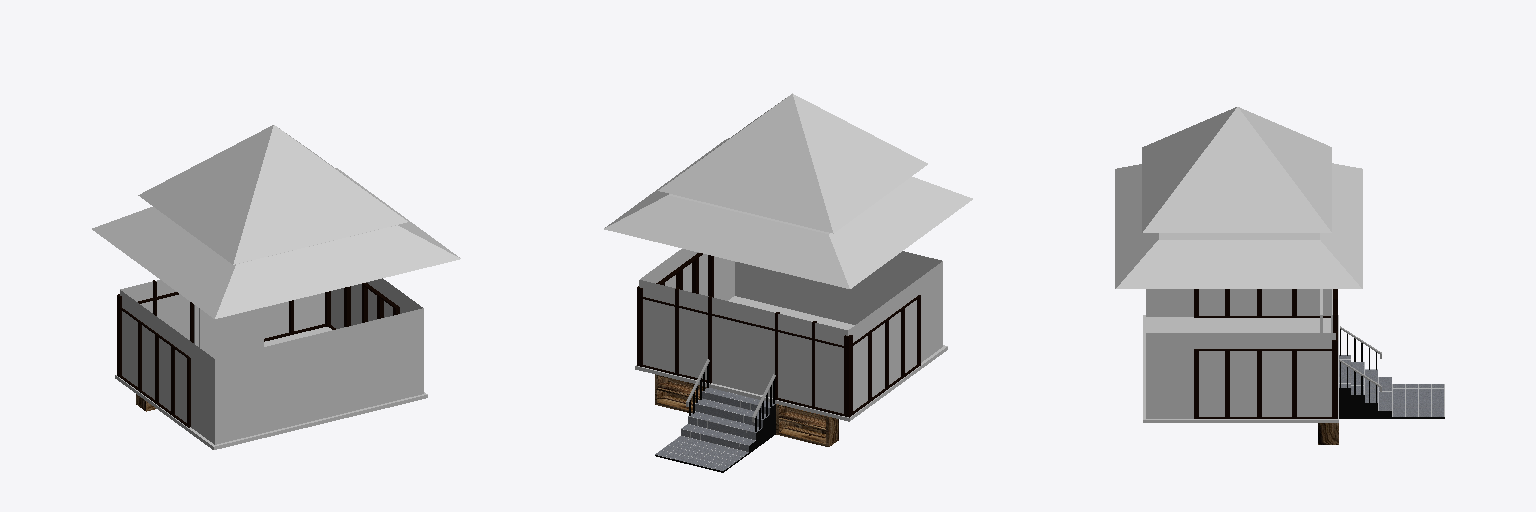
3 renders of one model, left to right at view 1: azimuth 30°, elevation 25°; view 2: azimuth 150°, elevation 25°; view 3: azimuth 270°, elevation 25°, orthographic.
Parts seen in each view (by area): view 1: Cube.001_Cube.022, Cube.020_Cube.014, Cube.019_Cube.010, Cube.042_Cube.035, Cube.018_Cube.002; view 2: Cube.001_Cube.022, Cube.020_Cube.014, Cube.019_Cube.010, Cube.012_Cube, Cube.018_Cube.002, Cube.016_Cube.011, Cube.017_Cube.013, Cube.023_Cube.032; view 3: Cube.020_Cube.014, Cube.001_Cube.022, Cube.019_Cube.010, Cube.012_Cube, Cube.018_Cube.002.
Part boxes in pixels (left/top/right/bottom): Cube.001_Cube.022: left=120, top=278, right=423, bottom=444; Cube.020_Cube.014: left=138, top=125, right=407, bottom=264; Cube.019_Cube.010: left=92, top=168, right=460, bottom=318; Cube.042_Cube.035: left=199, top=307, right=263, bottom=358; Cube.018_Cube.002: left=115, top=327, right=427, bottom=449; Cube.001_Cube.022: left=639, top=249, right=942, bottom=413; Cube.020_Cube.014: left=658, top=93, right=927, bottom=233; Cube.019_Cube.010: left=604, top=138, right=972, bottom=288; Cube.012_Cube: left=655, top=388, right=775, bottom=472; Cube.018_Cube.002: left=635, top=296, right=947, bottom=421; Cube.016_Cube.011: left=776, top=404, right=838, bottom=446; Cube.017_Cube.013: left=655, top=374, right=706, bottom=412; Cube.023_Cube.032: left=844, top=335, right=852, bottom=417; Cube.020_Cube.014: left=1142, top=107, right=1331, bottom=232; Cube.001_Cube.022: left=1146, top=289, right=1335, bottom=418; Cube.019_Cube.010: left=1115, top=163, right=1362, bottom=288; Cube.012_Cube: left=1339, top=355, right=1444, bottom=418; Cube.018_Cube.002: left=1143, top=315, right=1338, bottom=422.
Bounding box in the file's own units: 9 × 10.29 × 10.38.
8 materials, 2 textured.